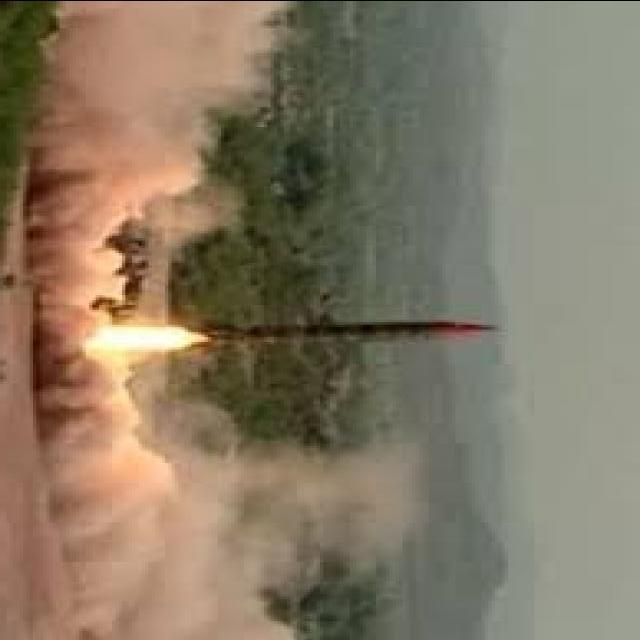Missile: (206, 317, 503, 342)
